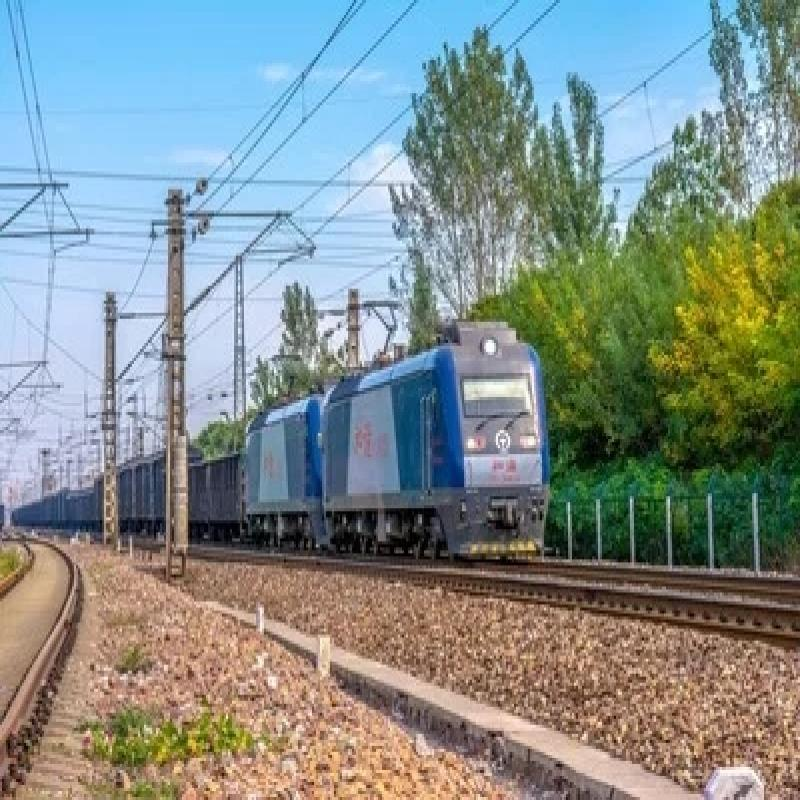train: (237, 314, 569, 575)
